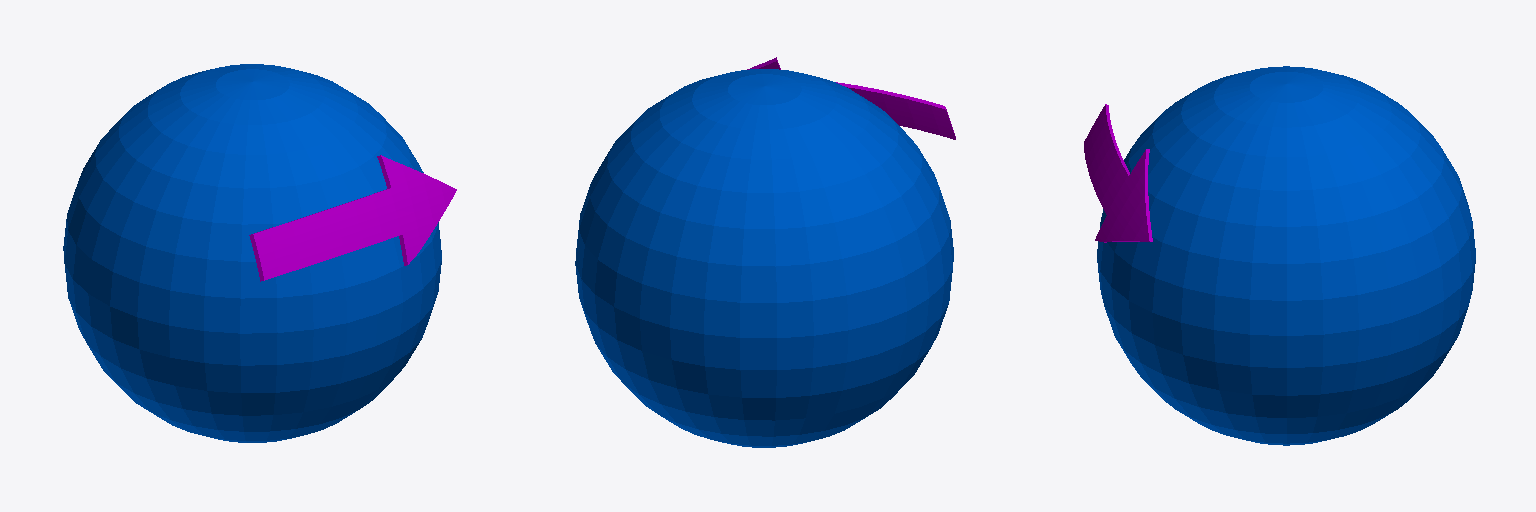
The model's file is spin_2.obj.
3 renders of one model, left to right at view 1: azimuth 30°, elevation 25°; view 2: azimuth 150°, elevation 25°; view 3: azimuth 270°, elevation 25°, orthographic.
Visible parts, largest first — view 1: Sphere_Sphere.325, Plane.001_Plane.002; view 2: Sphere_Sphere.325, Plane.001_Plane.002; view 3: Sphere_Sphere.325, Plane.001_Plane.002.
Boxes of the visible parts, box(x1,y1,x2,y2) form: Sphere_Sphere.325: box(63, 64, 441, 442); Plane.001_Plane.002: box(249, 155, 456, 281); Sphere_Sphere.325: box(575, 69, 953, 447); Plane.001_Plane.002: box(747, 57, 955, 139); Sphere_Sphere.325: box(1097, 66, 1475, 445); Plane.001_Plane.002: box(1084, 104, 1152, 242).
Size of the model in its own units: 2 by 2 by 2.07.